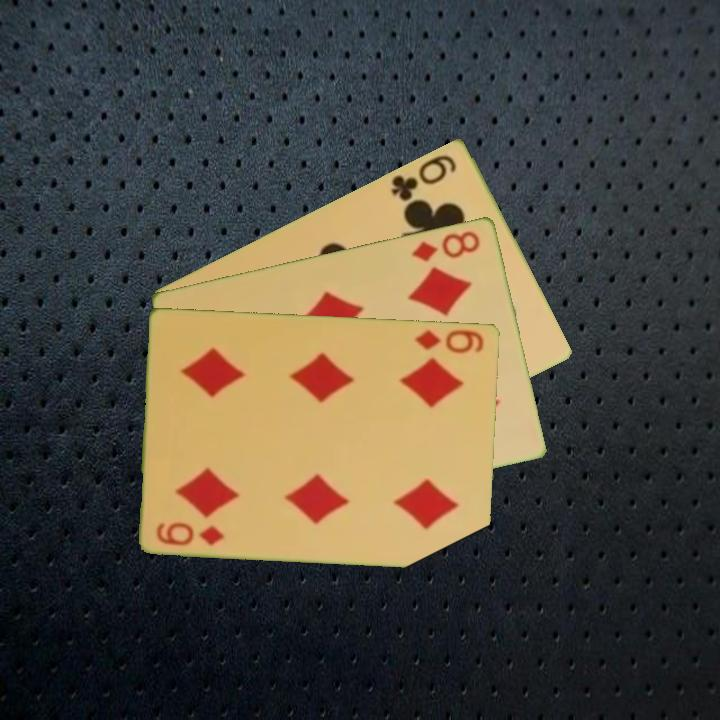6c: (387, 150, 460, 204)
6d: (411, 325, 487, 356), (153, 518, 228, 548)
8d: (408, 227, 483, 264)
